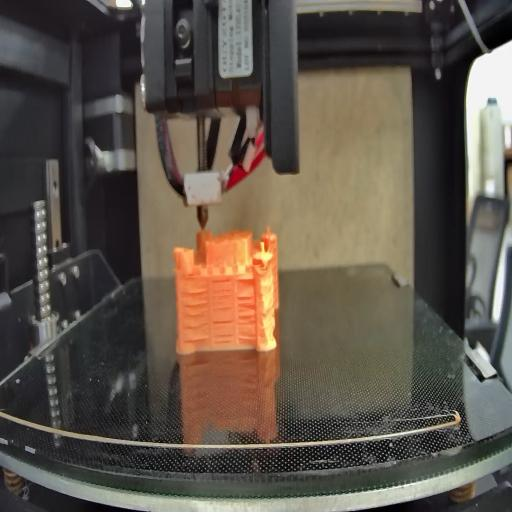cracks: (182, 286, 209, 342), (211, 275, 236, 327), (238, 292, 257, 342), (212, 330, 236, 347), (237, 274, 254, 284)
